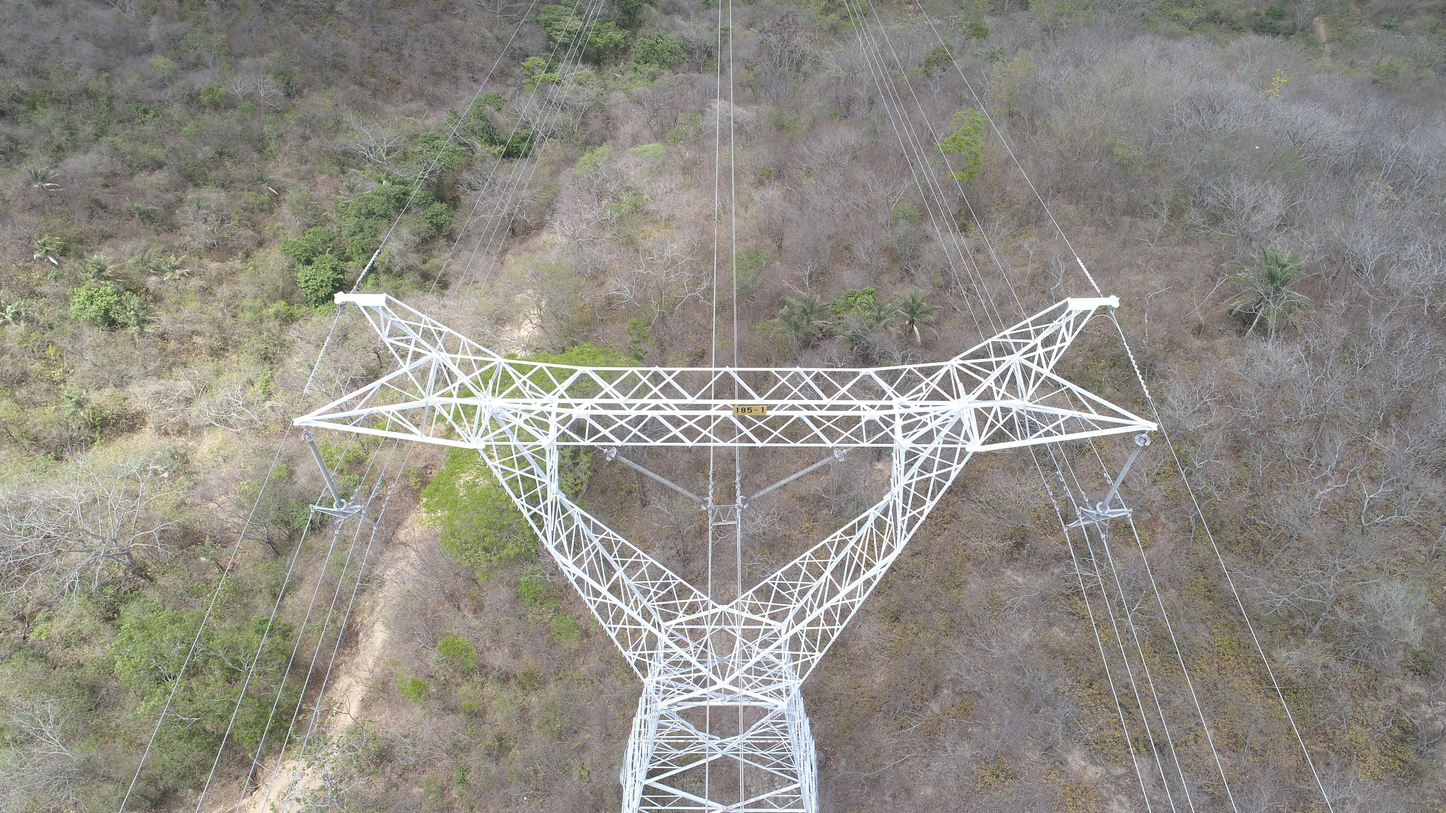power_tower: (291, 291, 1162, 813)
